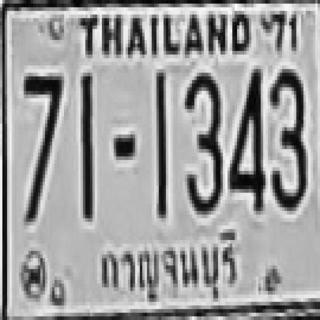N01: (78, 73, 92, 218), (154, 67, 166, 216)
N03: (182, 69, 220, 211), (268, 65, 306, 207)
N04: (228, 67, 263, 209)
N07: (21, 73, 62, 218), (21, 74, 62, 184)
P17: (98, 228, 242, 309)
